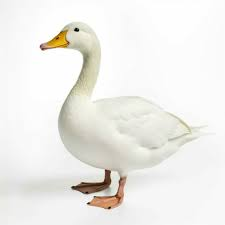Not_a_Chicken: (34, 16, 212, 210)
